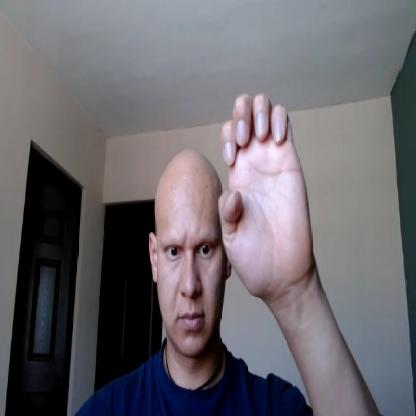E: (217, 92, 314, 296)
